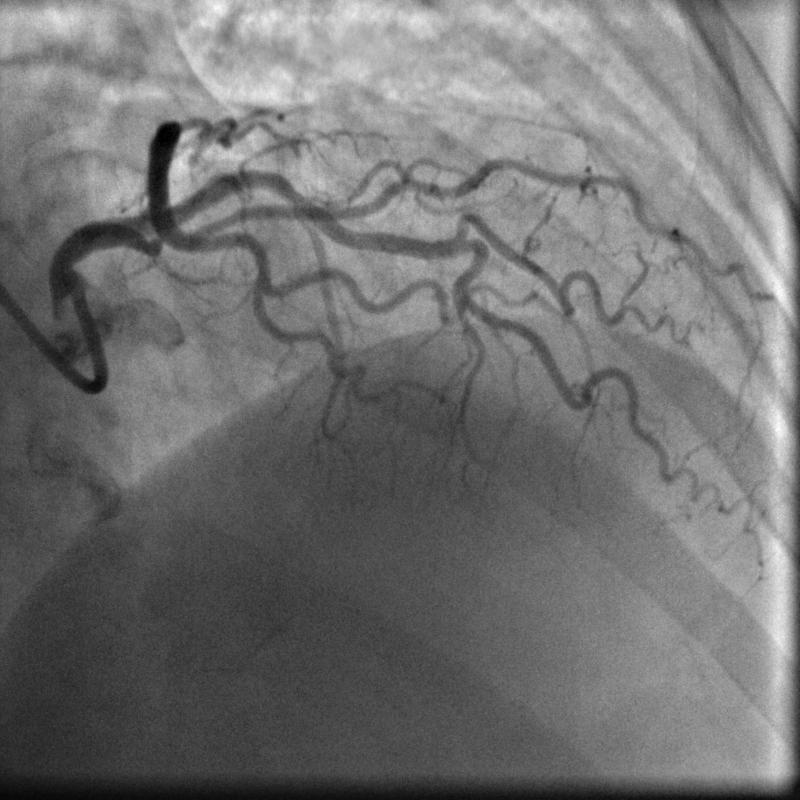Stenosis: (143, 219, 171, 253)
